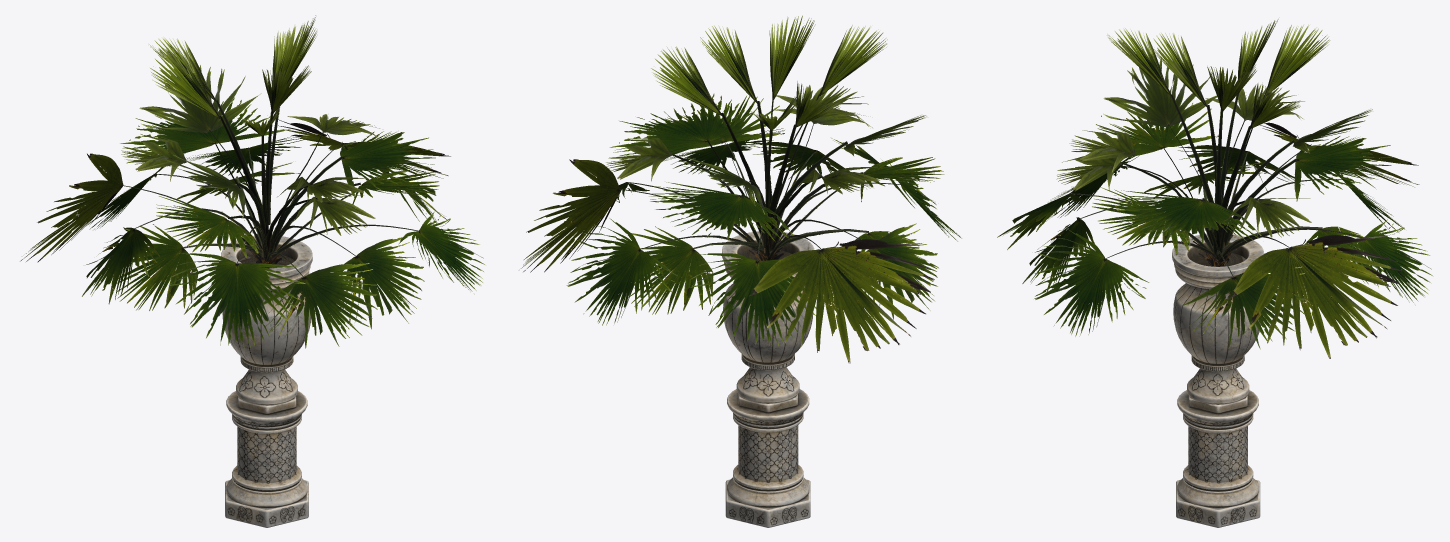
The model's file is vase.fbx.
3 views of the same model, side by side, from view 1: azimuth 30°, elevation 25°; view 2: azimuth 150°, elevation 25°; view 3: azimuth 270°, elevation 25° (orthographic).
Visible parts, largest first — view 1: 02_1, 02, vase; view 2: 02_1, 02, vase; view 3: 02, 02_1, vase.
Part boxes in pixels (x1,y1,x2,y2): 02_1: [20, 25, 446, 347]; 02: [82, 15, 484, 348]; vase: [221, 236, 312, 527]; 02_1: [560, 25, 961, 363]; 02: [521, 15, 944, 345]; vase: [722, 231, 814, 527]; 02: [997, 24, 1404, 358]; 02_1: [1022, 19, 1433, 349]; vase: [1172, 233, 1264, 527].
Size of the model in its own units: 160 by 179 by 153.
Materials: 2 (2 with a texture image).
